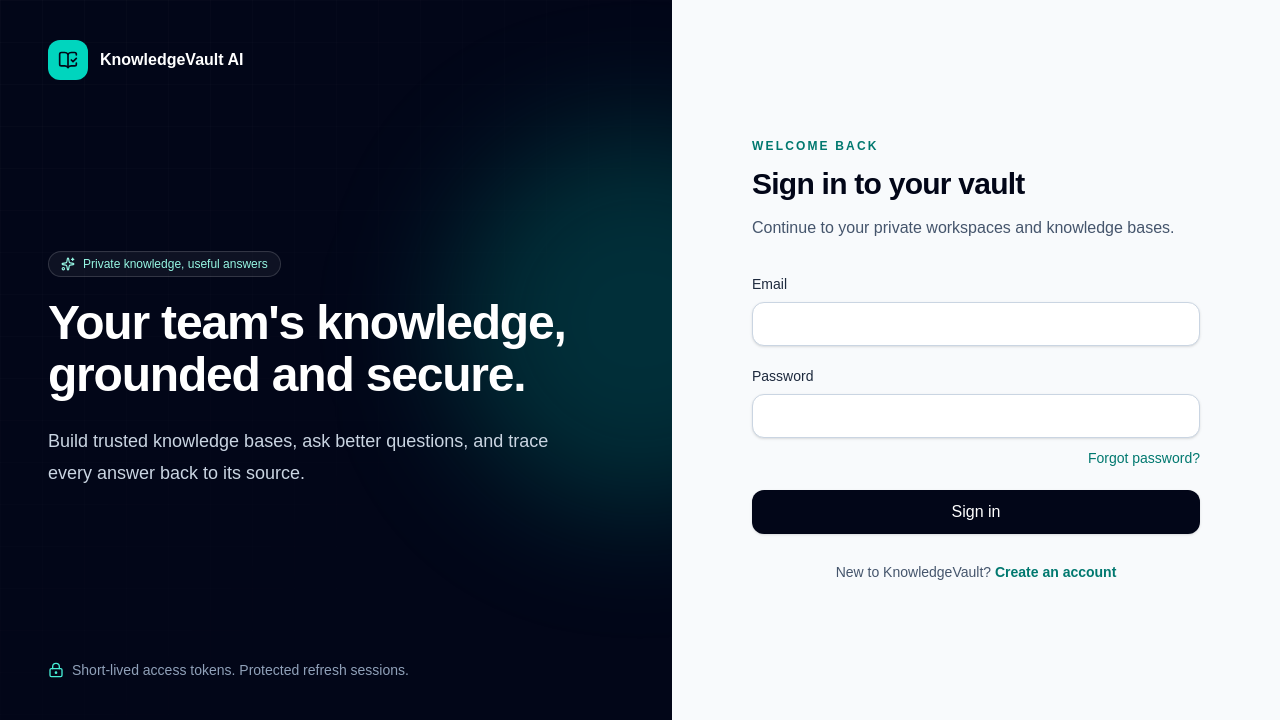
it: login page › shows client-side validation before sending credentials
Type "not-an-email" into the field labelled "Email" at (976, 324), box [752,302,1200,346]
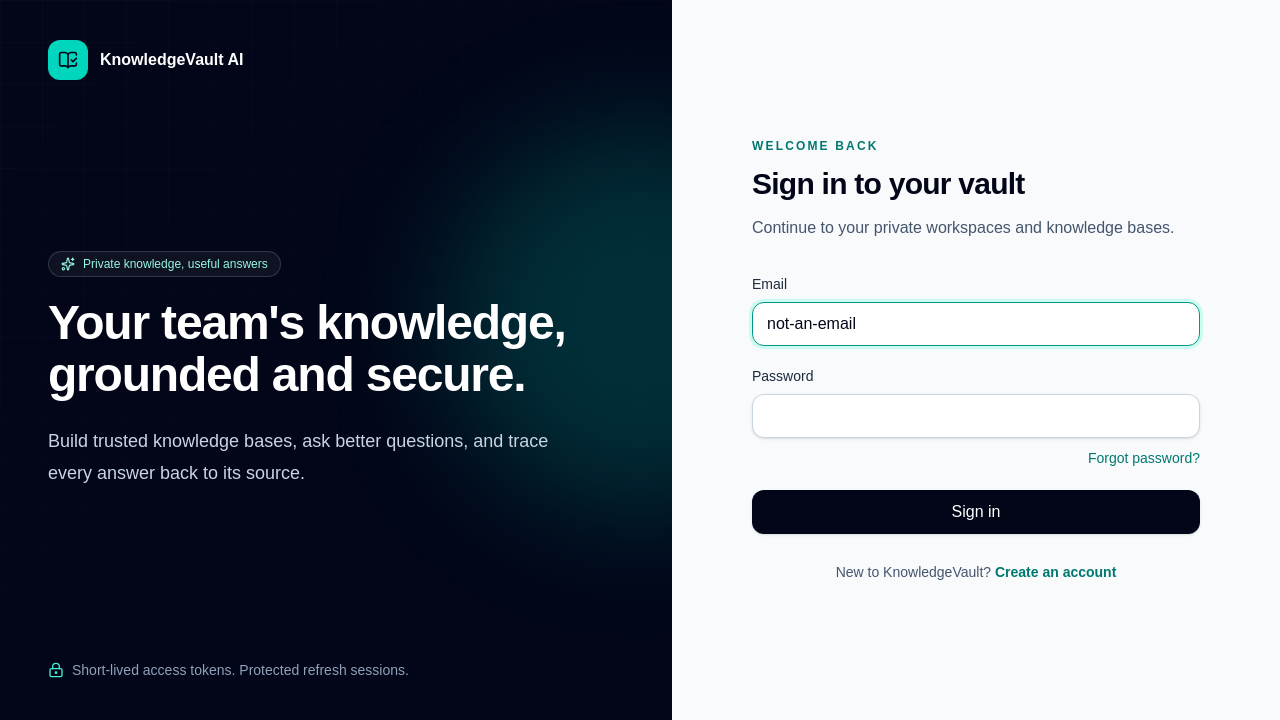
Click the button "Sign in" at (976, 512), box [752,490,1200,534]
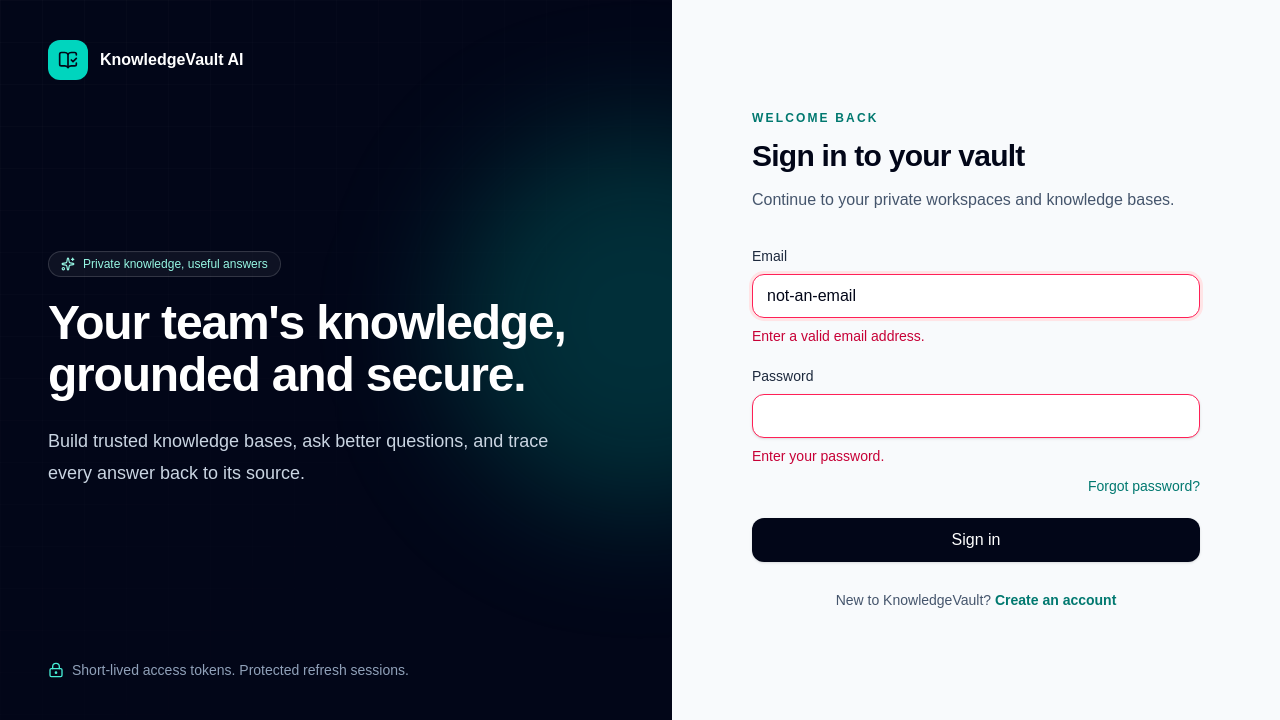
Expected: the text "Enter a valid email address." is shown, [752,328,925,344]
